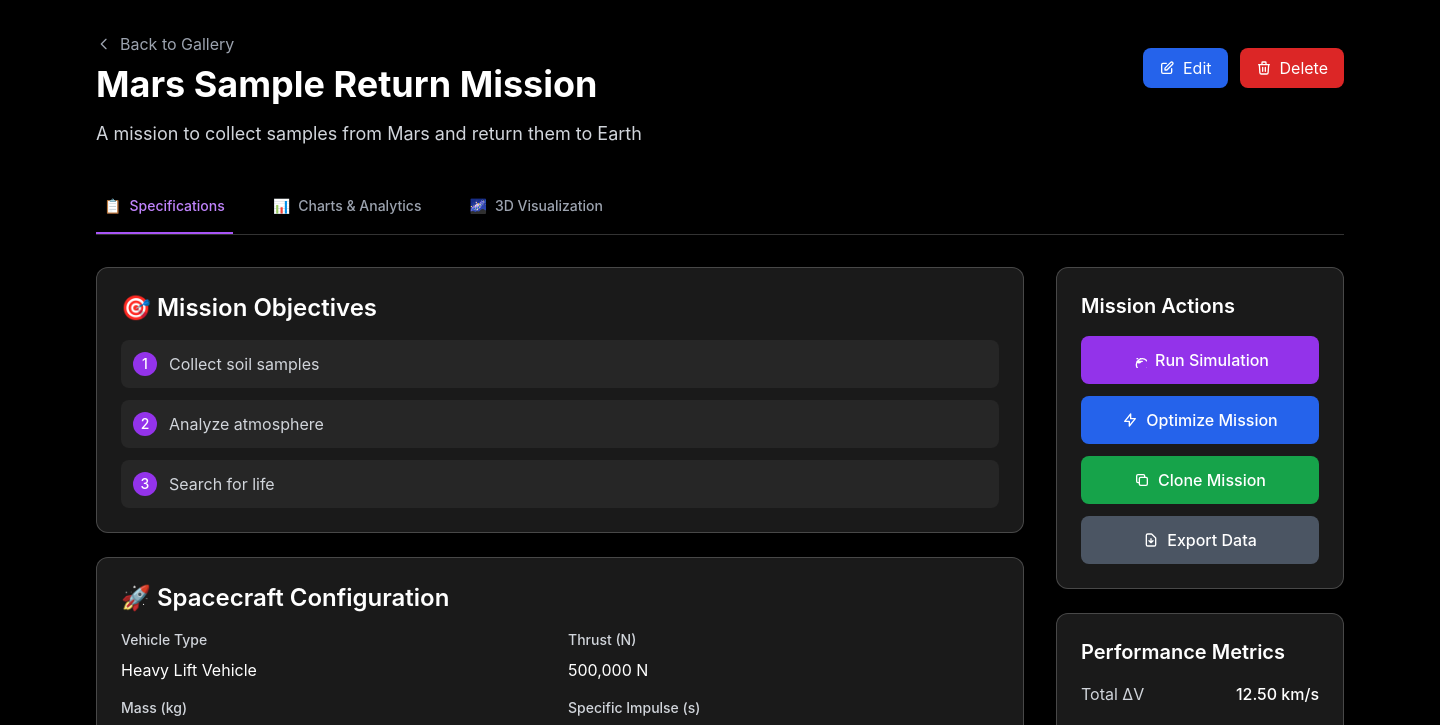
MissionDetailPage › enters edit mode when edit button is clicked
Click the button "Edit" at [1185, 68], box [1143,48,1228,88]
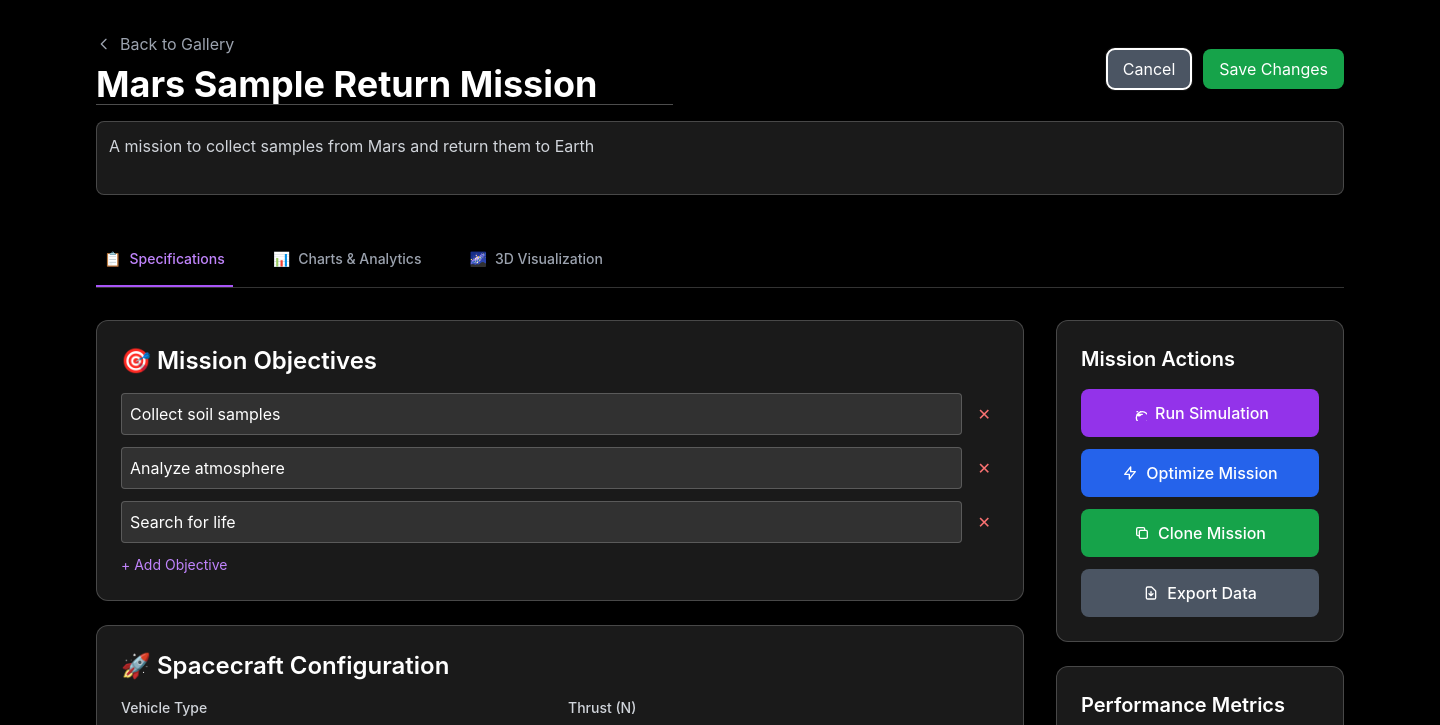
Check: the button "Save Changes" is shown, box [1203,48,1344,88]
Check: the button "Cancel" is shown, box [1107,48,1191,88]
Check: the 1st field showing "Mars Sample Return Mission" is shown, box [96,64,673,105]
